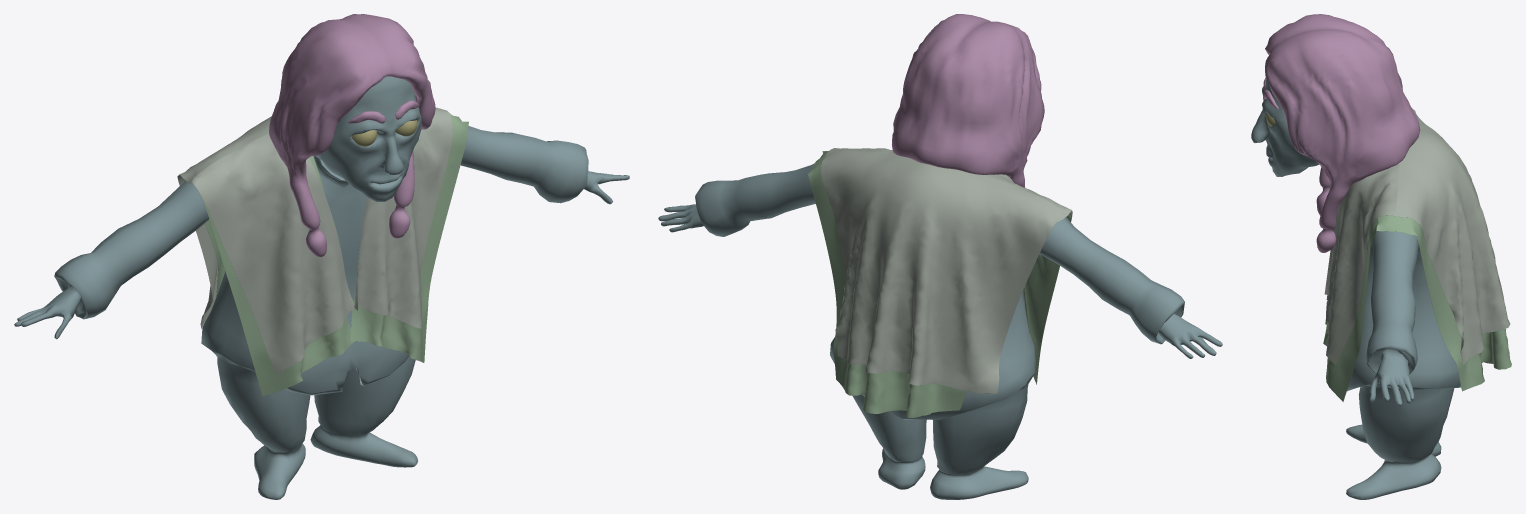
Rendered from Gran Amara LP FBX.fbx.
The picture shows the model from 3 angles, left to right: view 1: azimuth 30°, elevation 25°; view 2: azimuth 150°, elevation 25°; view 3: azimuth 270°, elevation 25°; orthographic projection. The views are drawn at different scales.
Visible parts, largest first — view 1: CuerpoLP, Poncho_2_LOW_QUAD:Poncho2LOWQUAD, polySurface1, Poncho_1_LOW_QUAD:Poncho1LOWQUAD; view 2: Poncho_2_LOW_QUAD:Poncho2LOWQUAD, CuerpoLP, polySurface1, Poncho_1_LOW_QUAD:Poncho1LOWQUAD; view 3: CuerpoLP, polySurface1, Poncho_2_LOW_QUAD:Poncho2LOWQUAD, Poncho_1_LOW_QUAD:Poncho1LOWQUAD.
Boxes of the visible parts, box(x1,y1,x2,y2) form: CuerpoLP: box(14, 76, 629, 499); Poncho_2_LOW_QUAD:Poncho2LOWQUAD: box(177, 107, 452, 373); polySurface1: box(269, 14, 435, 257); Poncho_1_LOW_QUAD:Poncho1LOWQUAD: box(184, 113, 468, 396); Poncho_2_LOW_QUAD:Poncho2LOWQUAD: box(821, 148, 1072, 393); CuerpoLP: box(658, 163, 1222, 499); polySurface1: box(892, 14, 1044, 187); Poncho_1_LOW_QUAD:Poncho1LOWQUAD: box(808, 151, 1071, 417); CuerpoLP: box(1251, 80, 1461, 499); polySurface1: box(1263, 14, 1420, 252); Poncho_2_LOW_QUAD:Poncho2LOWQUAD: box(1324, 108, 1510, 365); Poncho_1_LOW_QUAD:Poncho1LOWQUAD: box(1323, 215, 1511, 401).
Size of the model in its own units: 1.75 by 1.3 by 0.6923.
